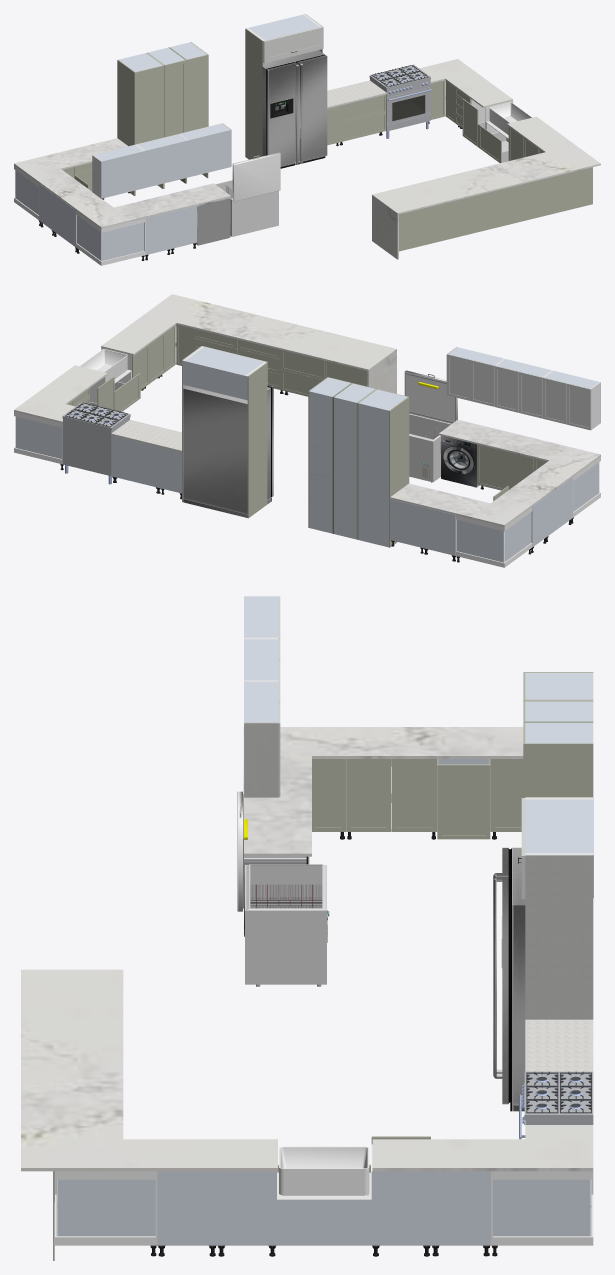
Rendered from Analise_V1.glb.
3 renders of one model, top to bottom at view 1: azimuth 30°, elevation 25°; view 2: azimuth 150°, elevation 25°; view 3: azimuth 270°, elevation 25°, orthographic. The views are drawn at different scales.
Parts seen in each view (by area): view 1: G-Object.052, _C-Double Door Fridge (Loose Mesh), G-Object.047, G-Object.042, G-Object.061, G-Object.045, G-Object.014, _G-Object (Loose Mesh), _G-Object.001 (Loose Mesh), G-Object.043, G-Object.049, C-WallBack720#2.001 (+36 smaller); view 2: _C-Double Door Fridge (Loose Mesh), G-Object.047, G-Object.015, G-Object.042, G-Object.061, G-Object.037, G-Object.026, G-Object.045, G-Object.043, G-Object.049, C-FloorBack720#2.001, _G-Object (Loose Mesh) (+46 smaller); view 3: G-Object.047, G-Object.046, _G-Object (Loose Mesh), G-Object.042, G-Object.049, _C-Double Door Fridge (Loose Mesh), C-back2.003, C-back1.002, G-Object.043, G-Object.048, C-FloorBack.006, C-FloorBack.005 (+27 smaller).
Part boxes in pixels (box(x1,y1,x2,y2)): G-Object.052: box(399, 167, 592, 251); _C-Double Door Fridge (Loose Mesh): box(262, 50, 327, 168); G-Object.047: box(372, 145, 600, 214); G-Object.042: box(14, 156, 130, 228); G-Object.061: box(369, 64, 430, 131); G-Object.045: box(245, 28, 263, 159); G-Object.014: box(134, 65, 164, 144); _G-Object (Loose Mesh): box(215, 180, 278, 236); _G-Object.001 (Loose Mesh): box(232, 152, 280, 201); G-Object.043: box(114, 183, 230, 221); G-Object.049: box(428, 59, 512, 107); C-WallBack720#2.001: box(144, 140, 188, 187); _C-Double Door Fridge (Loose Mesh): box(183, 384, 273, 517); G-Object.047: box(144, 294, 396, 371); G-Object.015: box(358, 403, 388, 547); G-Object.042: box(472, 446, 600, 526); G-Object.061: box(62, 402, 130, 475); G-Object.037: box(309, 391, 331, 533); G-Object.026: box(334, 397, 356, 539); G-Object.045: box(247, 362, 267, 518); G-Object.043: box(439, 419, 567, 461); G-Object.049: box(14, 365, 107, 419); C-FloorBack720#2.001: box(111, 435, 160, 487); _G-Object (Loose Mesh): box(409, 413, 451, 482); G-Object.047: box(21, 969, 123, 1171); G-Object.046: box(525, 855, 593, 1019); _G-Object (Loose Mesh): box(245, 864, 329, 984); G-Object.042: box(243, 727, 523, 758); G-Object.049: box(372, 1139, 593, 1171); _C-Double Door Fridge (Loose Mesh): box(493, 847, 525, 1111); C-back2.003: box(57, 1179, 155, 1236); C-back1.002: box(493, 1179, 590, 1236); G-Object.043: box(243, 756, 311, 856); G-Object.048: box(123, 1139, 277, 1171); C-FloorBack.006: box(371, 1171, 431, 1245); C-FloorBack.005: box(431, 1171, 490, 1245).
Bounding box in the file's own units: 9.02 × 2.5 × 5.04.
Materials: 54 (15 with a texture image).
